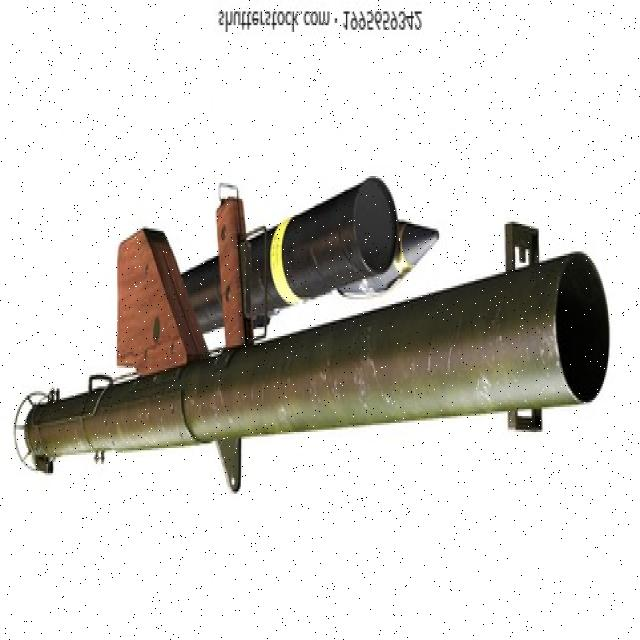bazooka: (11, 172, 616, 500)
